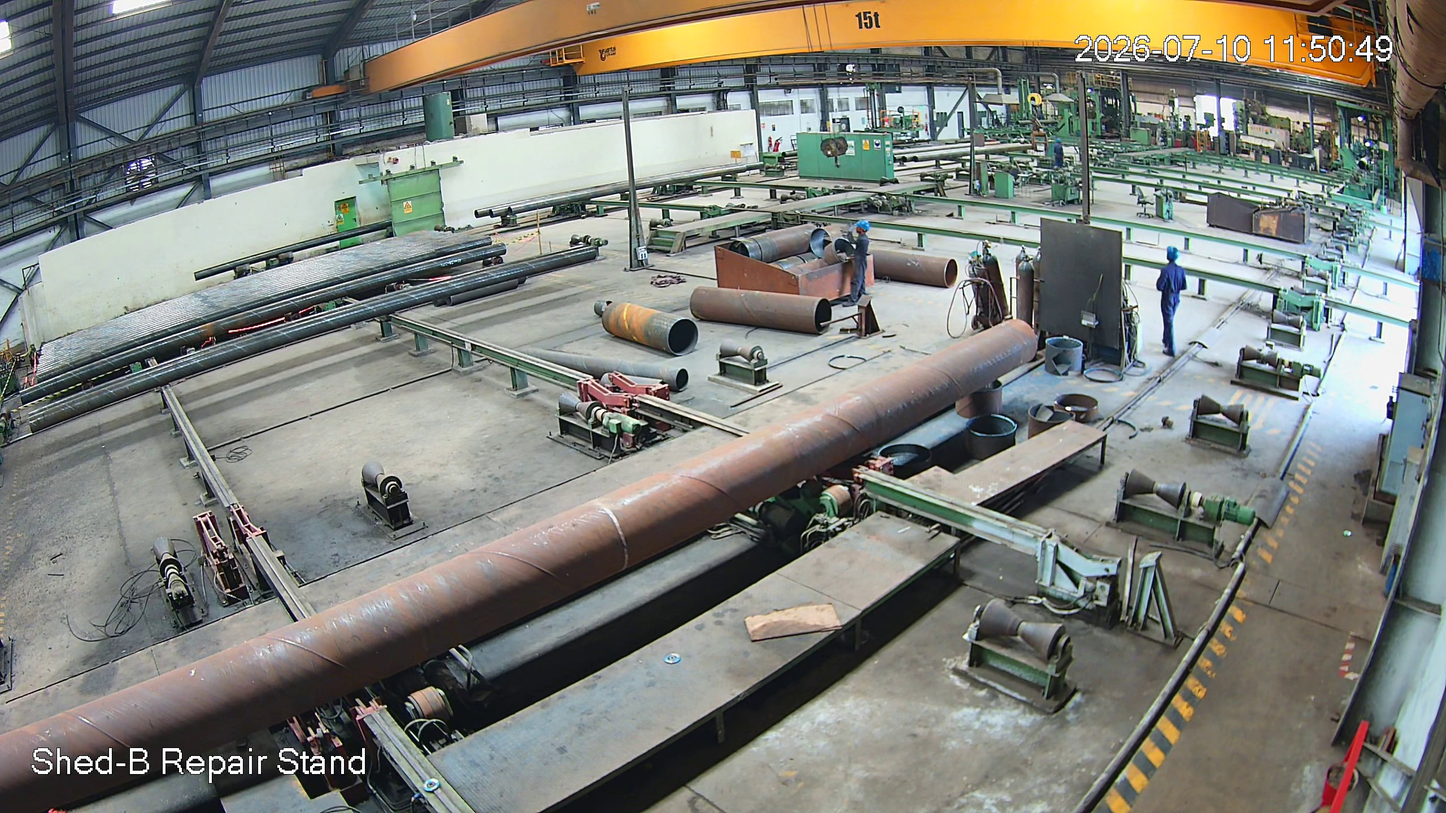Helmet: (1159, 243, 1182, 277), (850, 216, 872, 247)
Person: (1155, 246, 1186, 362), (843, 218, 877, 316)
